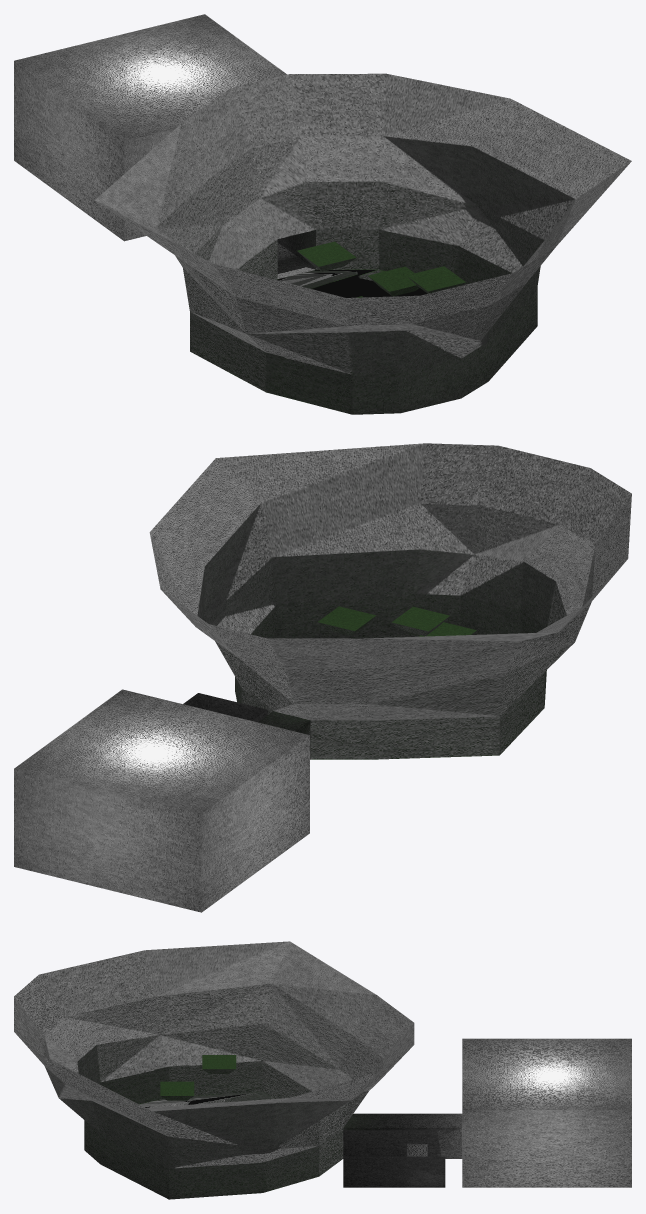
The model's file is test_level.glb.
The picture shows the model from 3 angles, top to bottom: view 1: azimuth 30°, elevation 25°; view 2: azimuth 150°, elevation 25°; view 3: azimuth 270°, elevation 25°; orthographic projection. The views are drawn at different scales.
Parts seen in each view (by area): view 1: Cube; view 2: Cube; view 3: Cube.
Boxes of the visible parts, left/top/right/bottom form: Cube: left=14, top=14, right=631, bottom=414; Cube: left=14, top=443, right=631, bottom=912; Cube: left=14, top=941, right=631, bottom=1199.
Size of the model in its own units: 23.21 by 7.88 by 36.39.
Materials: 2 (2 with a texture image).
